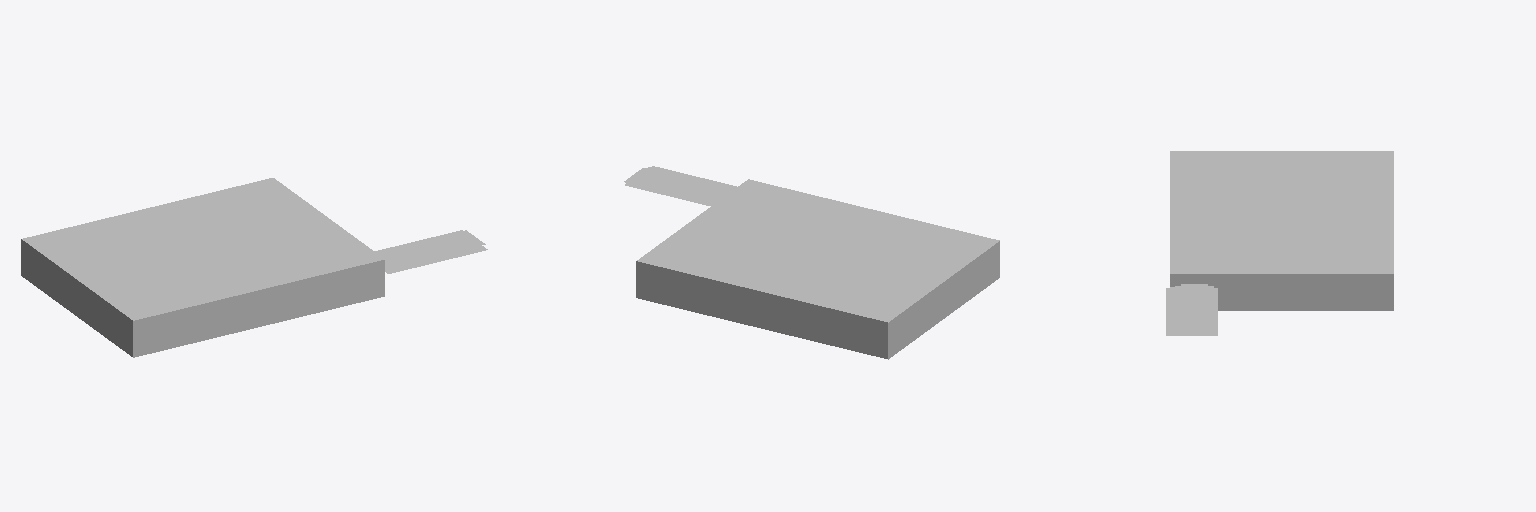
3 renders of one model, left to right at view 1: azimuth 30°, elevation 25°; view 2: azimuth 150°, elevation 25°; view 3: azimuth 270°, elevation 25°, orthographic.
Visible parts, largest first — view 1: bb, msg_error, msg_save; view 2: bb, msg_error, msg_save; view 3: bb, msg_error, msg_save.
Part boxes in pixels (x1,y1,x2,y2): bb: (21,178,384,357); msg_error: (374,230,485,268); msg_save: (385,241,487,273); bb: (636,179,999,359); msg_error: (624,168,733,203); msg_save: (625,166,736,205); bb: (1170,151,1393,310); msg_error: (1175,284,1213,335); msg_save: (1166,287,1217,335).
Bounding box in the file's own units: 0.4314 × 0.043 × 0.2404.